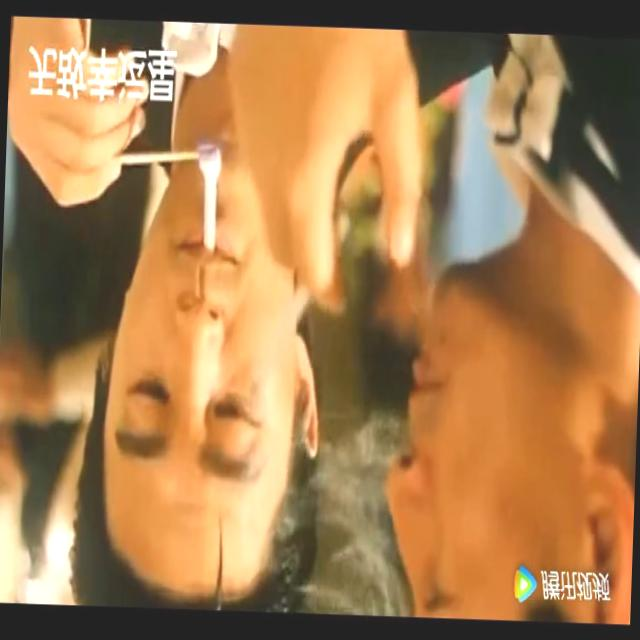cigarette: (202, 154, 224, 260)
